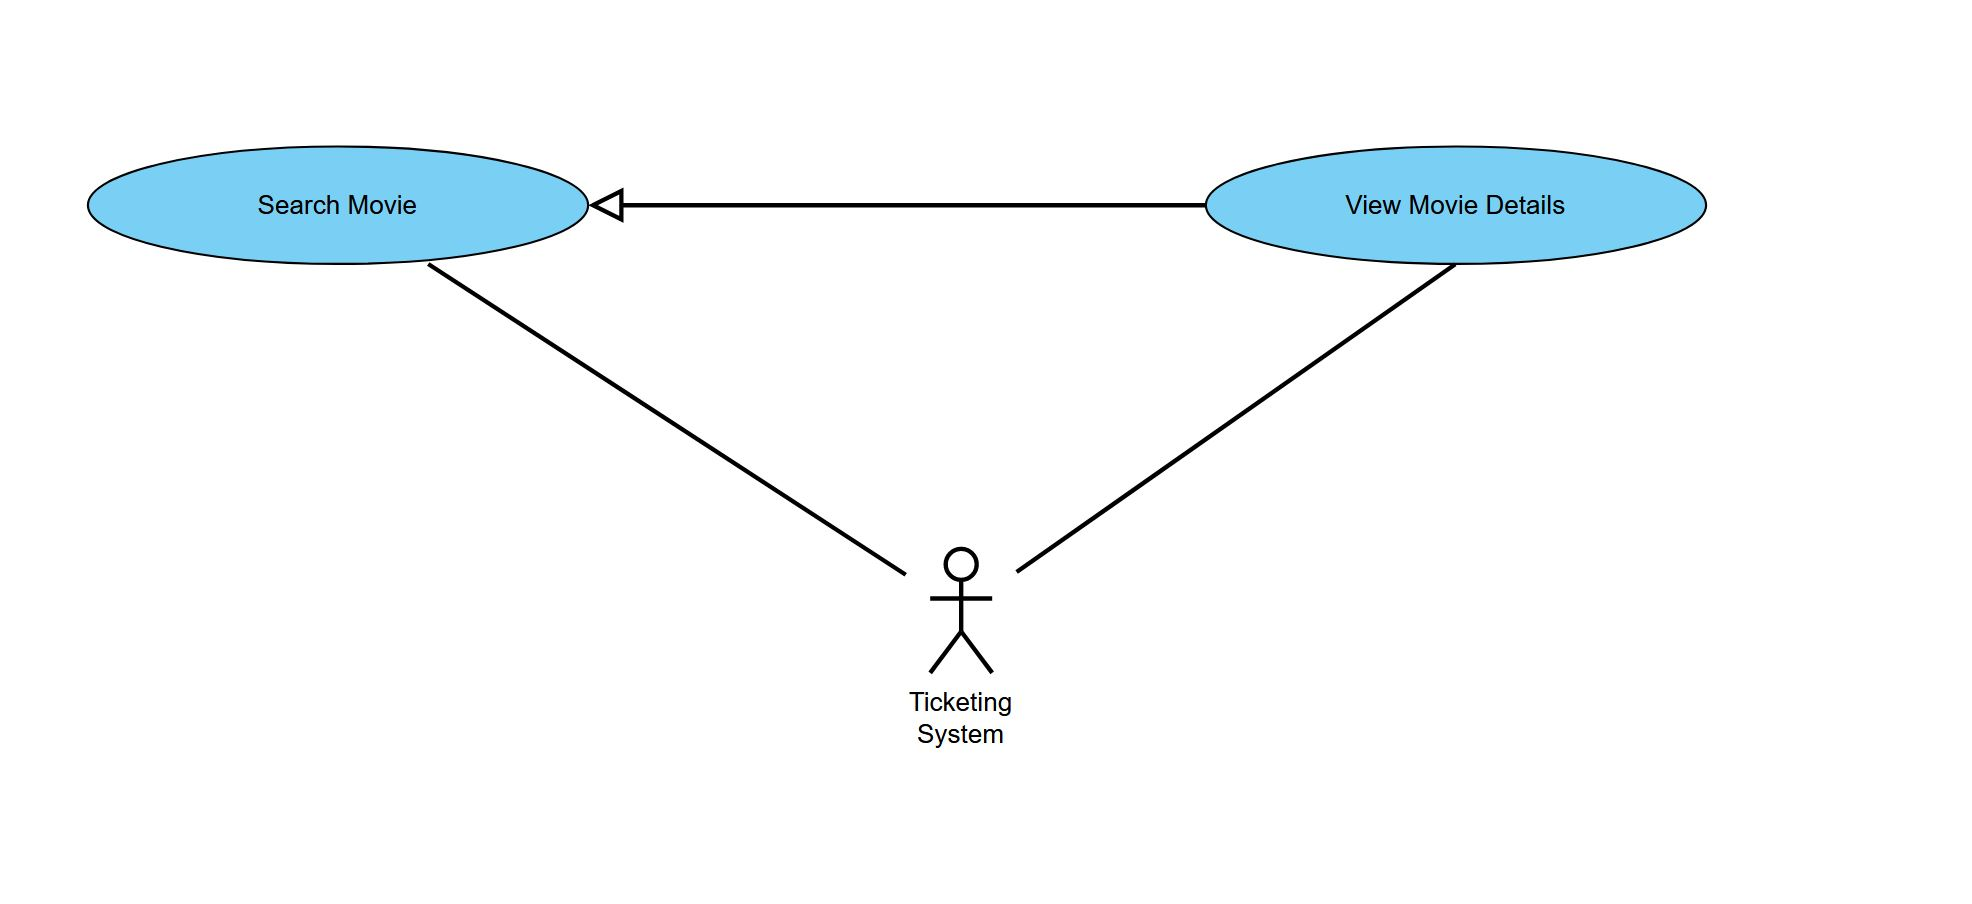actor: (924, 544, 999, 679)
association: (426, 262, 909, 575), (1015, 267, 1454, 576)
generalization: (589, 180, 1204, 225)
text: (1331, 184, 1590, 231), (889, 686, 1025, 752), (252, 184, 428, 228)
use_case: (1204, 141, 1707, 267), (84, 143, 590, 267)
